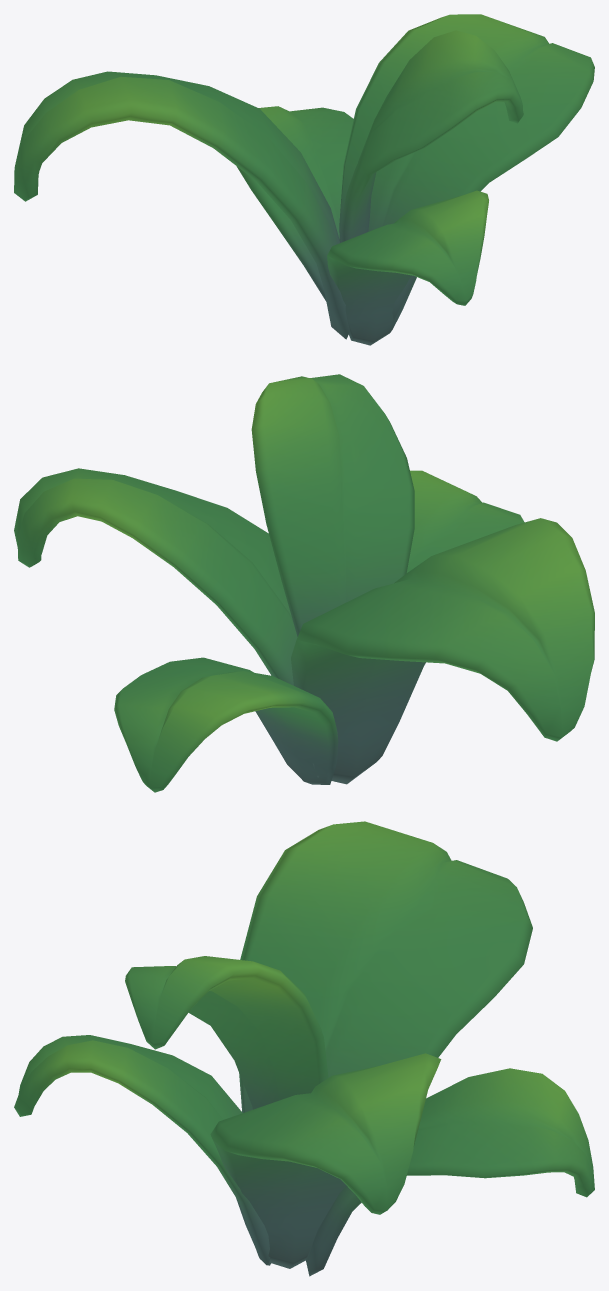
Rendered from plant1.glb.
3 views of the same model, one above another, from view 1: azimuth 30°, elevation 25°; view 2: azimuth 150°, elevation 25°; view 3: azimuth 270°, elevation 25° (orthographic). The views are drawn at different scales.
Visible parts, largest first — view 1: Plant.010_Material.001_0; view 2: Plant.010_Material.001_0; view 3: Plant.010_Material.001_0.
Boxes of the visible parts, x1,y1,x2,y2 form: Plant.010_Material.001_0: [14, 14, 594, 345]; Plant.010_Material.001_0: [14, 374, 594, 792]; Plant.010_Material.001_0: [14, 821, 594, 1276].
Size of the model in its own units: 7.42 by 4.08 by 6.08.
Materials: 1 (1 with a texture image).
